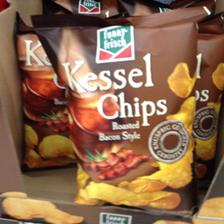Chips: (30, 12, 202, 208)
